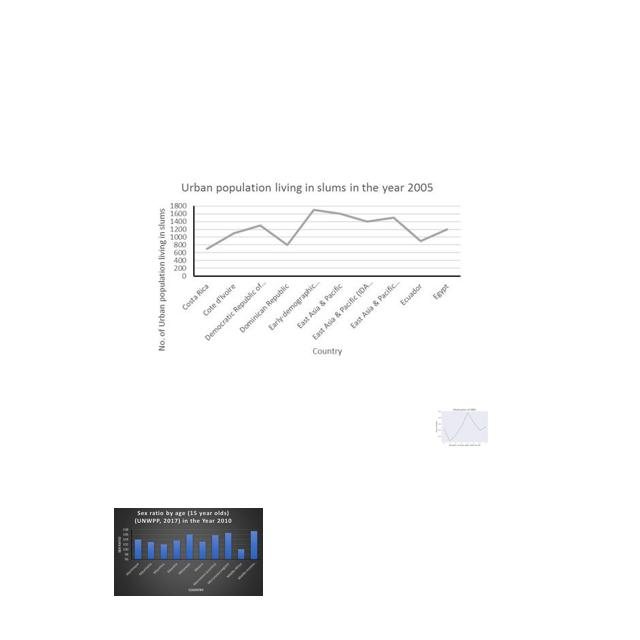Graph: (153, 178, 466, 359), (114, 508, 263, 596), (434, 404, 494, 449)
